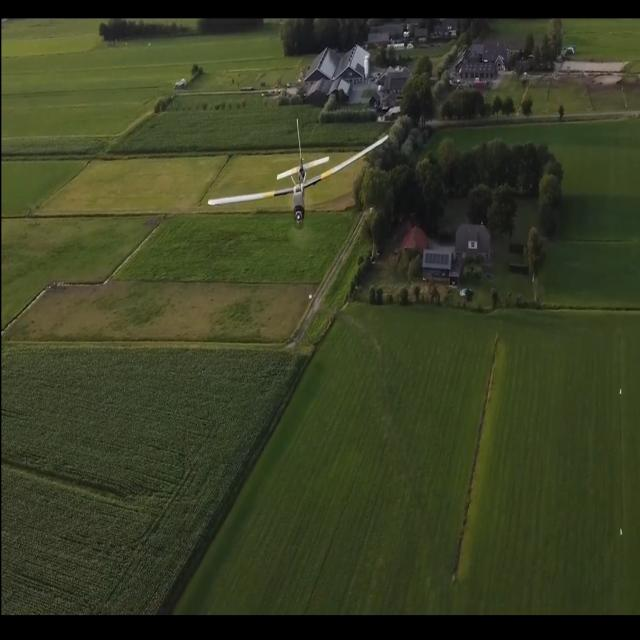iha: (205, 150, 389, 200)
